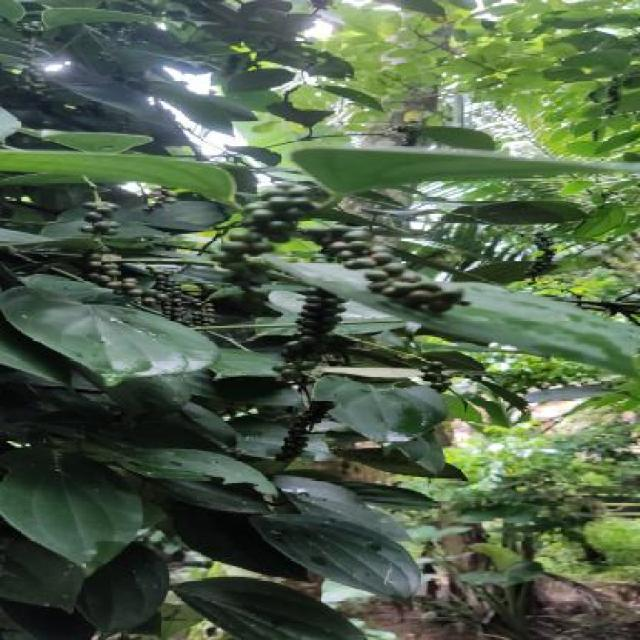UNRIPE: (310, 224, 468, 313), (219, 186, 318, 305), (267, 400, 341, 462), (116, 268, 190, 317), (79, 203, 119, 283), (100, 25, 143, 85), (19, 23, 50, 97), (523, 233, 562, 284), (423, 363, 454, 392), (195, 297, 219, 329)
